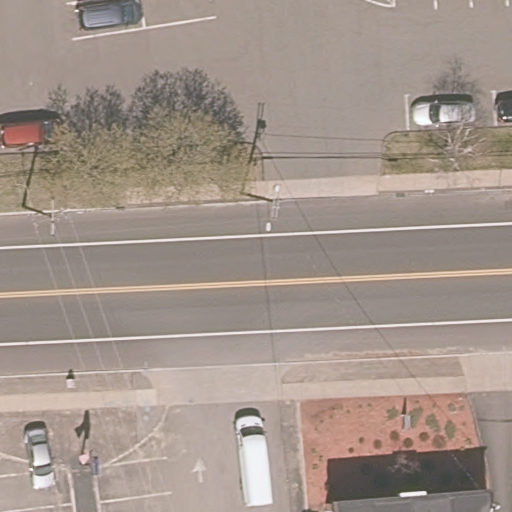DT: (264, 184, 283, 231), (44, 197, 61, 239)
